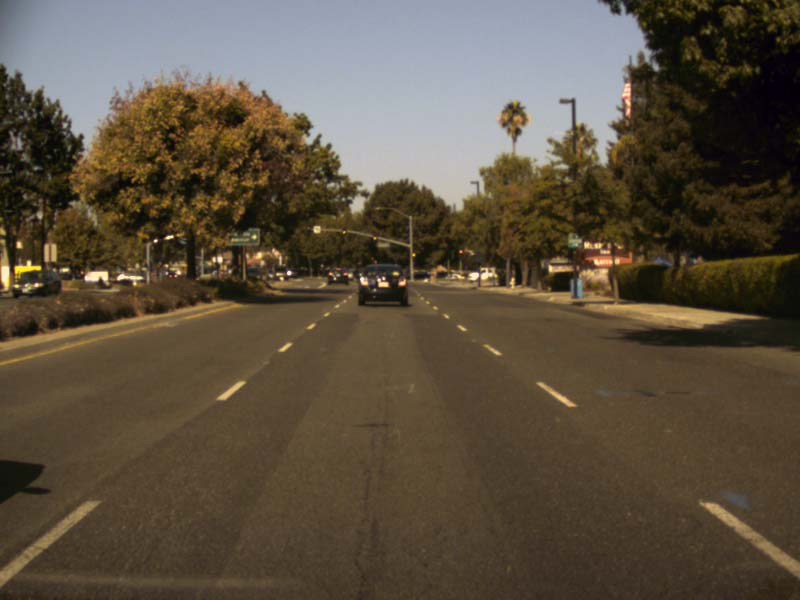Red: (306, 226, 310, 234)
Yellow: (457, 248, 463, 254), (411, 252, 416, 257), (372, 234, 376, 240), (342, 228, 345, 235)
